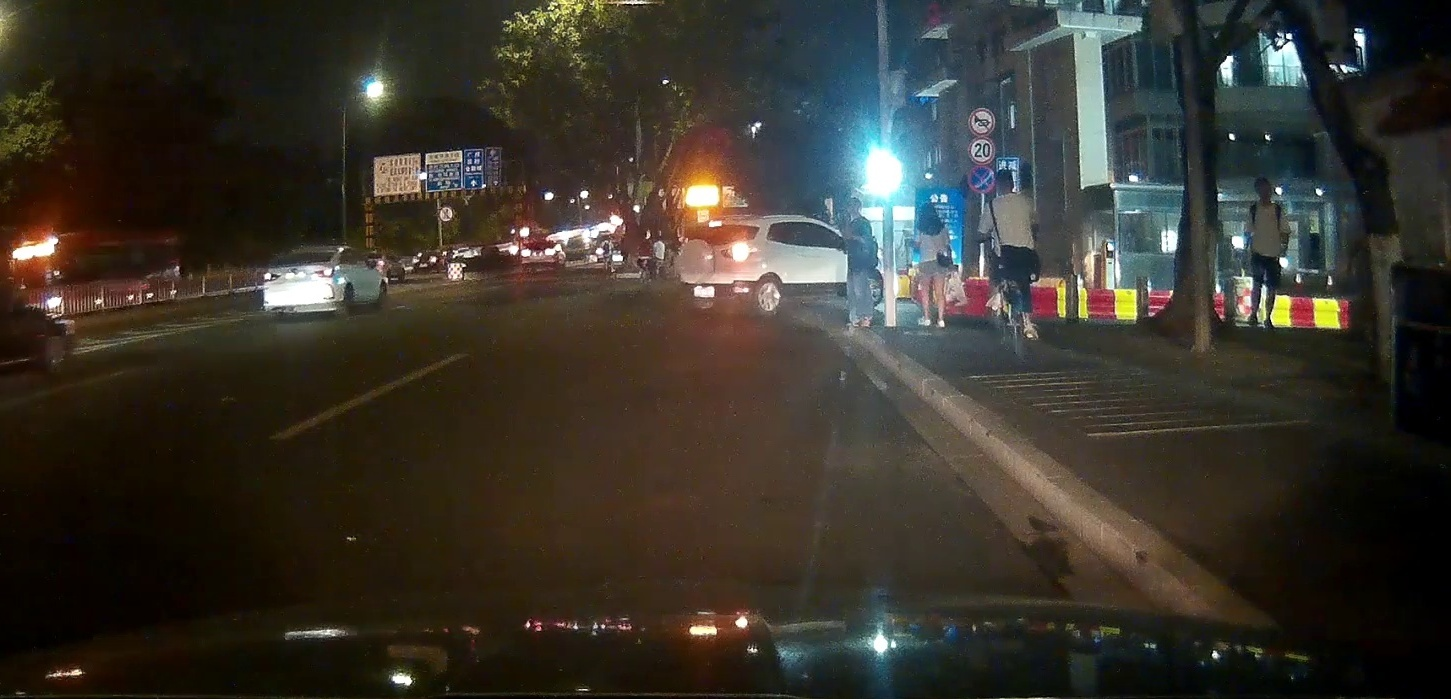L_light: (263, 272, 280, 282), (680, 252, 691, 262)
R_light: (721, 247, 755, 259), (314, 268, 335, 278)
T_light: (709, 220, 723, 228), (300, 251, 313, 255)
night-no: (262, 246, 341, 319)
night-right: (675, 217, 761, 316)
